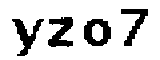7: (115, 5, 149, 49)
o: (82, 19, 112, 50)
y: (10, 14, 44, 58)
z: (45, 16, 76, 50)
